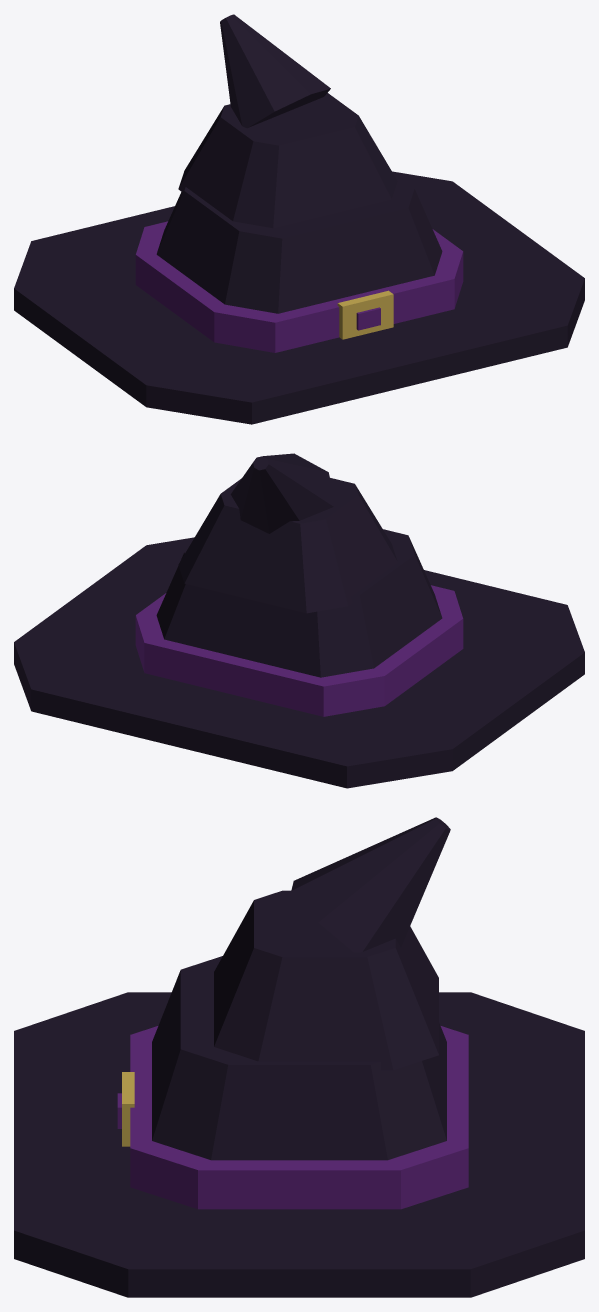
File: witch.glb
The picture shows the model from 3 angles, top to bottom: view 1: azimuth 30°, elevation 25°; view 2: azimuth 150°, elevation 25°; view 3: azimuth 270°, elevation 25°; orthographic projection. The views are drawn at different scales.
Visible parts, largest first — view 1: Witch Hat.002; view 2: Witch Hat.002; view 3: Witch Hat.002.
Part boxes in pixels (bbox=[...]): Witch Hat.002: bbox=[14, 14, 584, 424]; Witch Hat.002: bbox=[14, 453, 584, 788]; Witch Hat.002: bbox=[14, 817, 584, 1297].
Bounding box in the file's own units: 0.9998 × 0.5563 × 0.8708.
